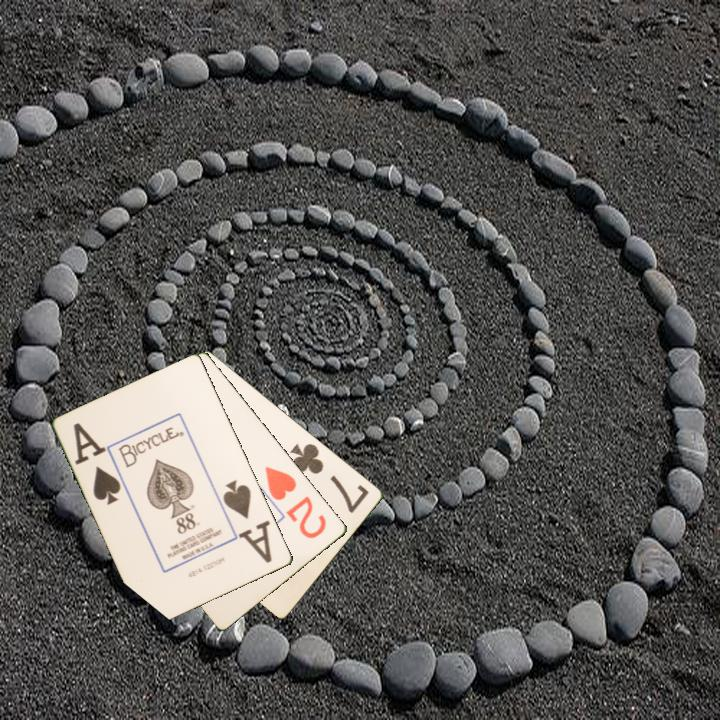2h: (261, 463, 330, 542)
7c: (287, 440, 372, 516)
As: (70, 419, 124, 508), (220, 476, 270, 558)
